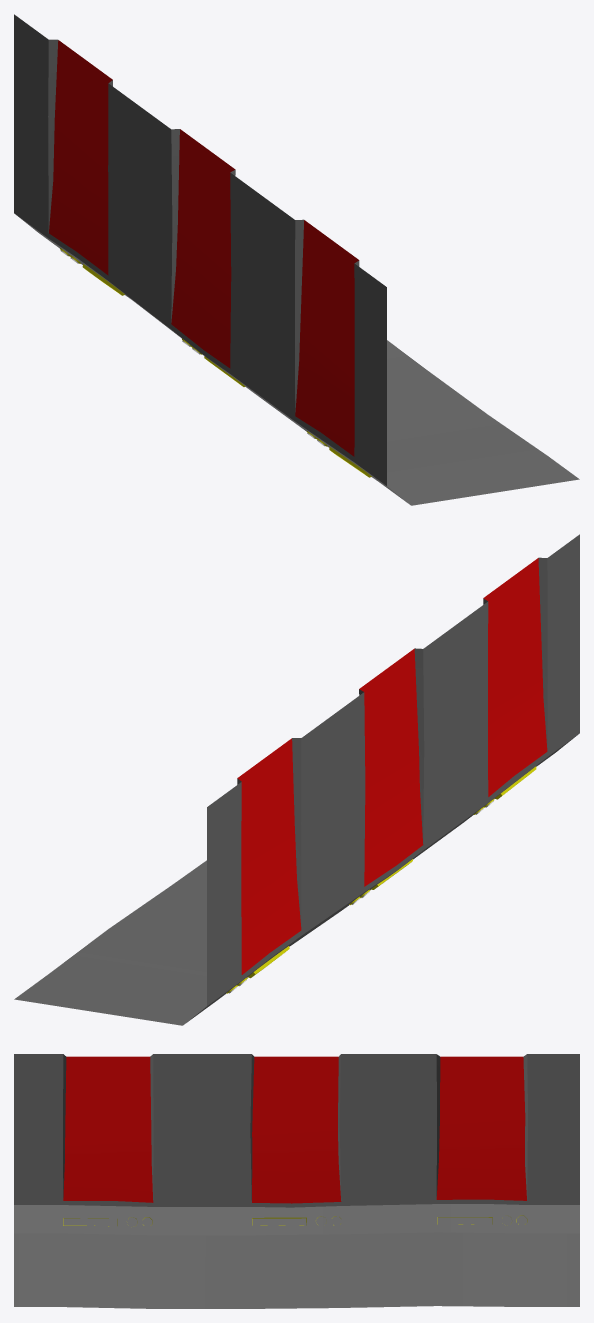
Rendered from Bar_Charger_1.fbx.
3 views of the same model, one above another, from view 1: azimuth 30°, elevation 25°; view 2: azimuth 150°, elevation 25°; view 3: azimuth 270°, elevation 25° (orthographic). The views are drawn at different scales.
Parts seen in each view (by area): view 1: Bar_Charger_1; view 2: Bar_Charger_1; view 3: Bar_Charger_1.
Part boxes in pixels (<box>): Bar_Charger_1: <box>14,14,579,505</box>; Bar_Charger_1: <box>14,534,579,1025</box>; Bar_Charger_1: <box>14,1054,579,1308</box>.
Size of the model in its own units: 165 by 197 by 551.
